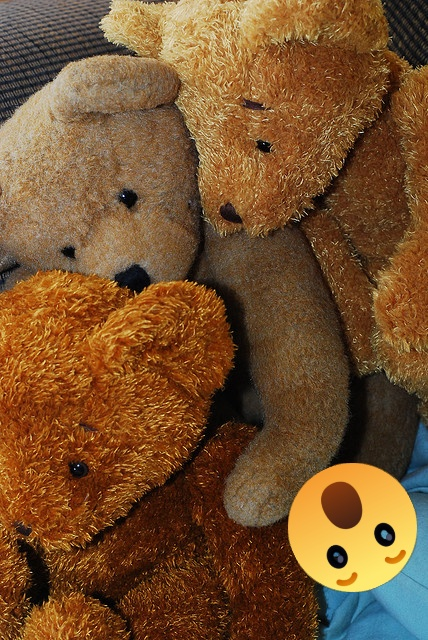wow: (288, 463, 417, 592)
